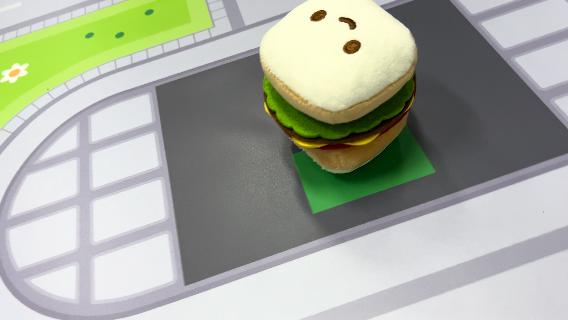sandwich: (257, 1, 421, 175)
